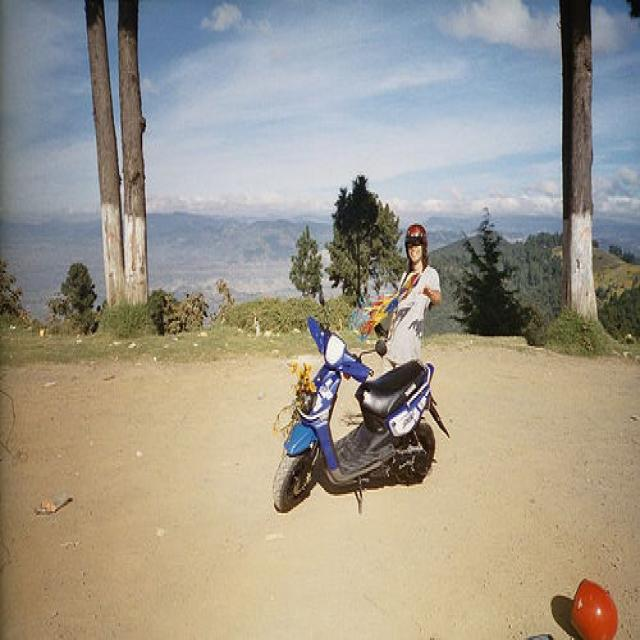motorbike: (274, 316, 449, 518)
person: (383, 224, 442, 374)
